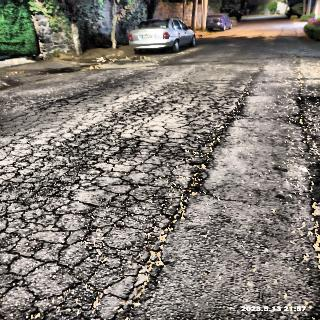alligator-crack: (1, 115, 153, 320), (48, 77, 216, 202)
